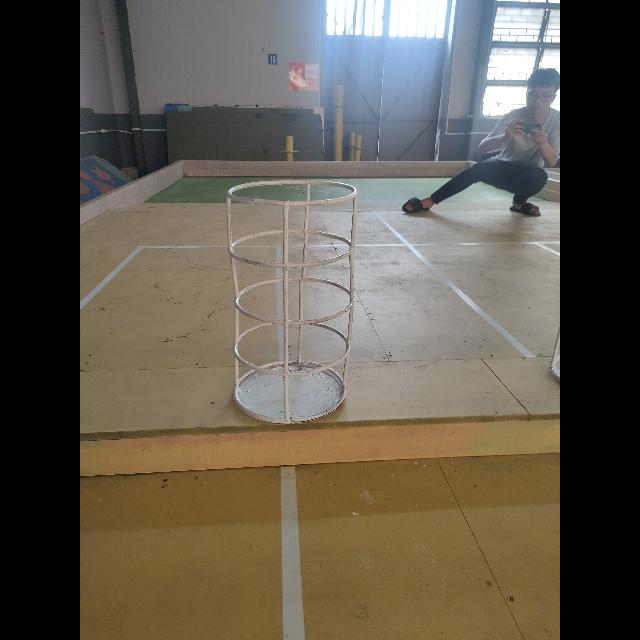S: (225, 176, 359, 425)
